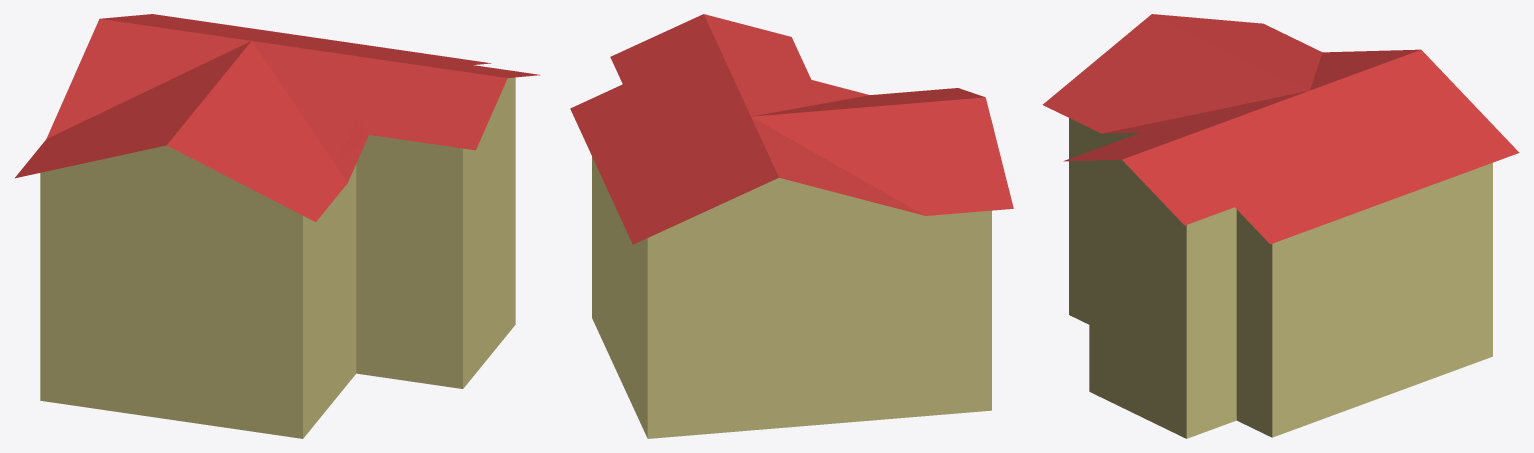
3 renders of one model, left to right at view 1: azimuth 30°, elevation 25°; view 2: azimuth 150°, elevation 25°; view 3: azimuth 270°, elevation 25°, orthographic. The views are drawn at different scales.
Visible parts, largest first — view 1: group_10, group_5, group_3, group_7, group_9; view 2: group_5, group_3, group_7, group_10, group_9; view 3: group_5, group_3, group_7, group_10, group_9.
Boxes of the visible parts, bbox=[...] form: group_10: bbox=[40, 145, 328, 438]; group_5: bbox=[328, 77, 515, 407]; group_3: bbox=[46, 14, 540, 182]; group_7: bbox=[15, 41, 347, 221]; group_9: bbox=[19, 128, 344, 219]; group_5: bbox=[592, 156, 922, 438]; group_3: bbox=[570, 14, 925, 244]; group_7: bbox=[751, 88, 1013, 215]; group_10: bbox=[922, 210, 991, 416]; group_9: bbox=[860, 89, 1010, 215]; group_5: bbox=[1089, 132, 1492, 438]; group_3: bbox=[1063, 49, 1519, 244]; group_7: bbox=[1042, 14, 1322, 133]; group_10: bbox=[1069, 118, 1115, 324]; group_9: bbox=[1048, 16, 1321, 132].
Size of the model in its own units: 20.43 by 18.96 by 11.4.
